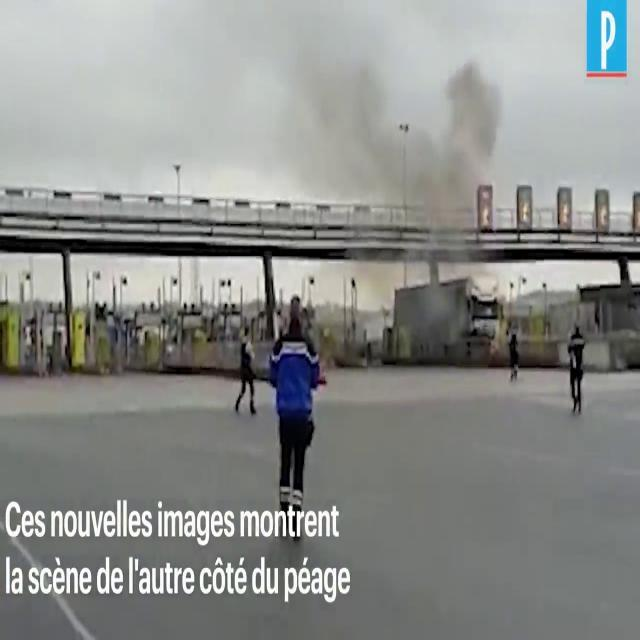Smoke: (262, 2, 516, 226)
